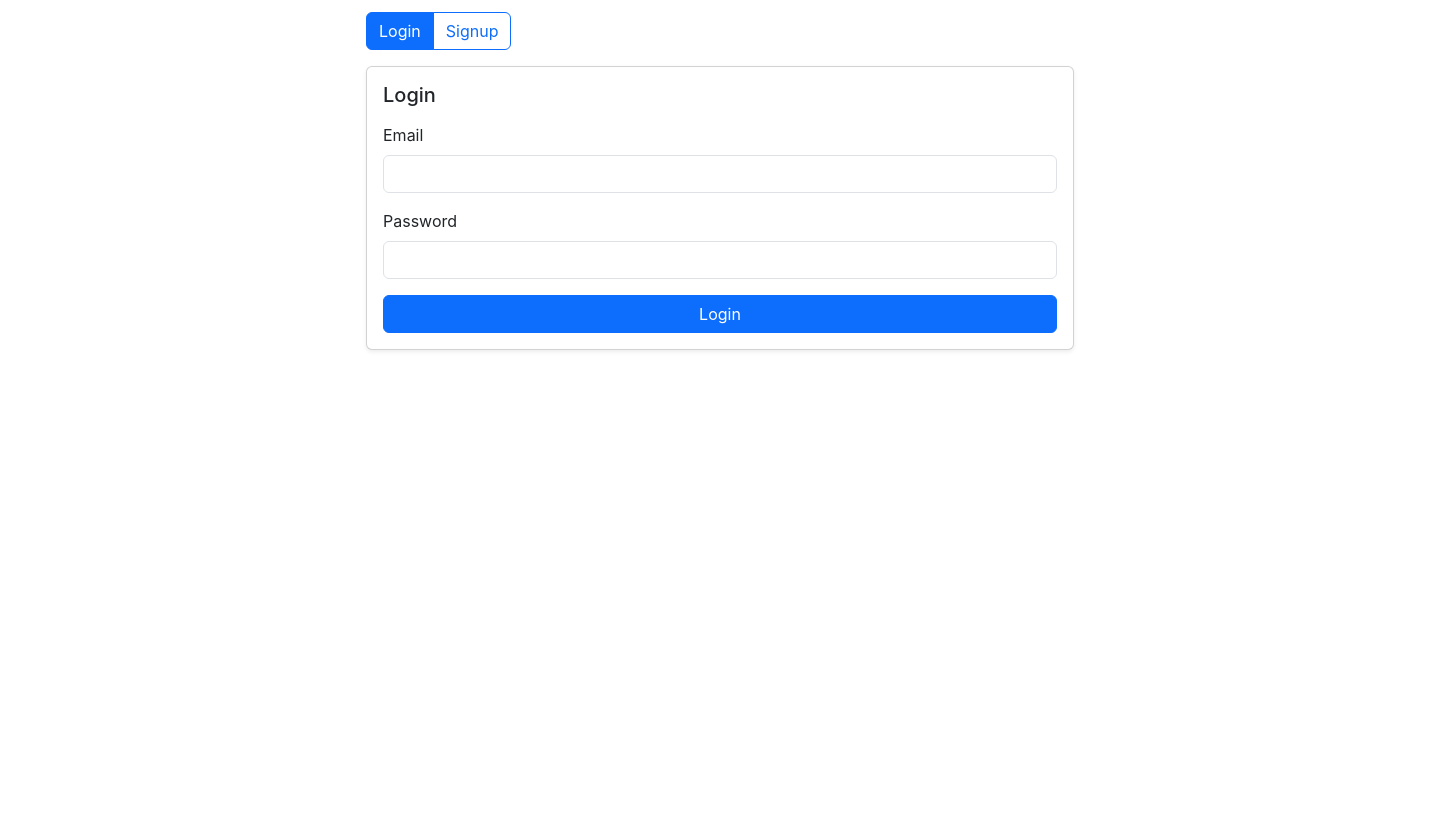
Test: AuthPage › signs up successfully and switches back to login mode
The image size is (1440, 822).
Click the button "Signup".
click(472, 31)  # box [433,12,512,50]
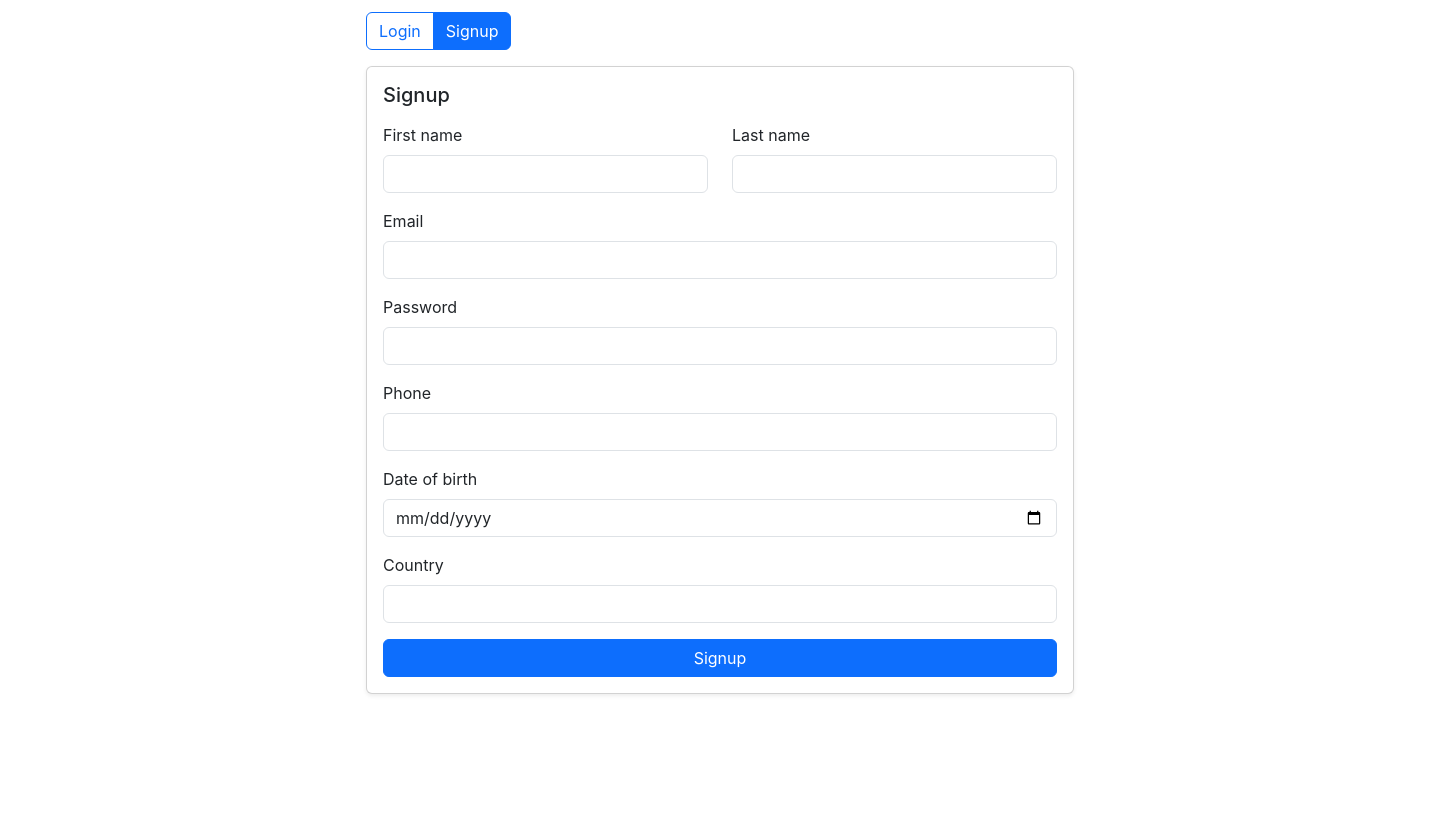
Expected: the field named "fname" below "First name" is shown
Type "Jane" into the field named "fname" below "First name".
click(546, 174); type("Jane")  # box [383,155,708,193]
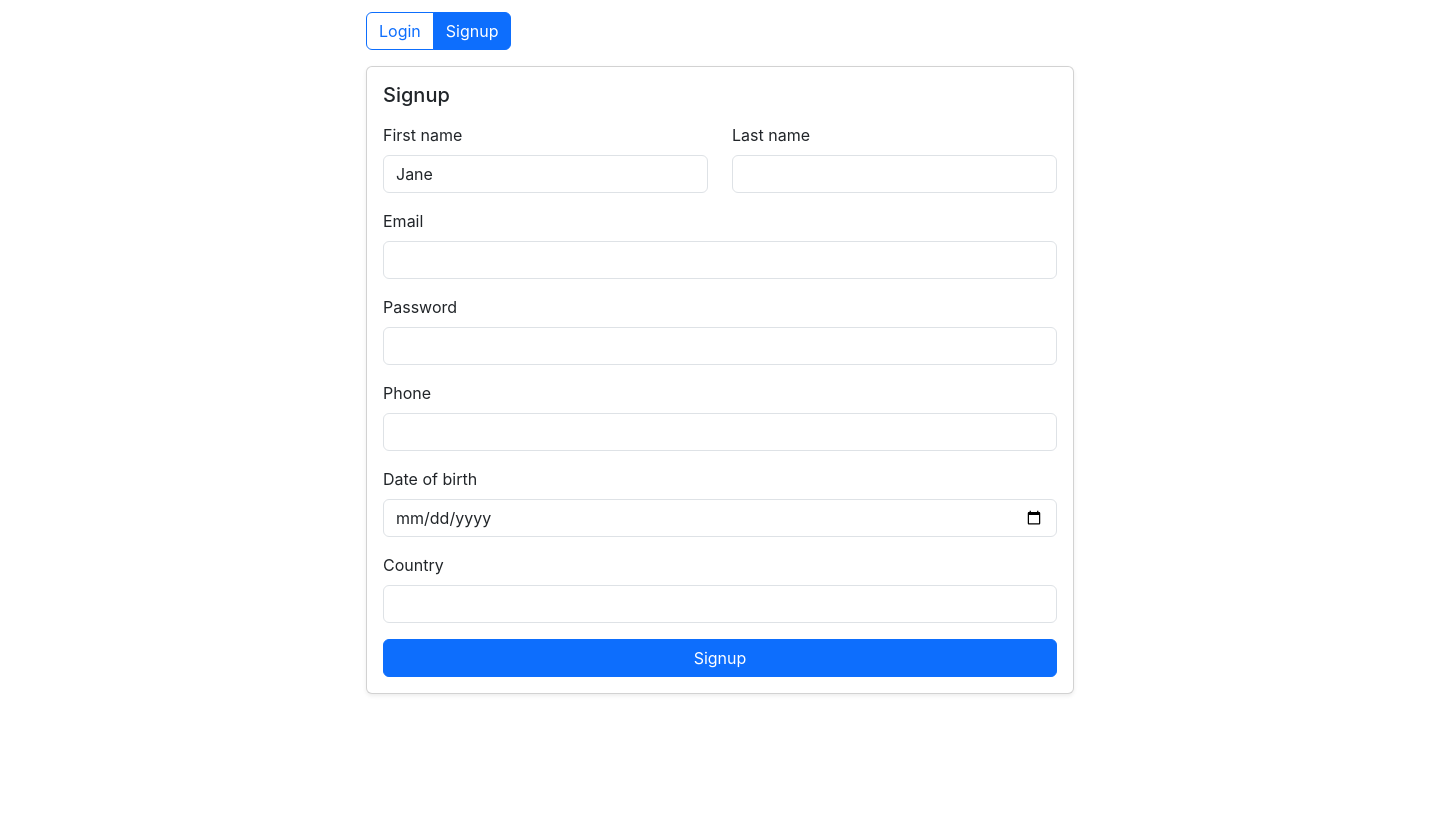
Expected: the field named "lname" below "Last name" is shown
Type "Doe" into the field named "lname" below "Last name".
click(894, 174); type("Doe")  # box [732,155,1057,193]
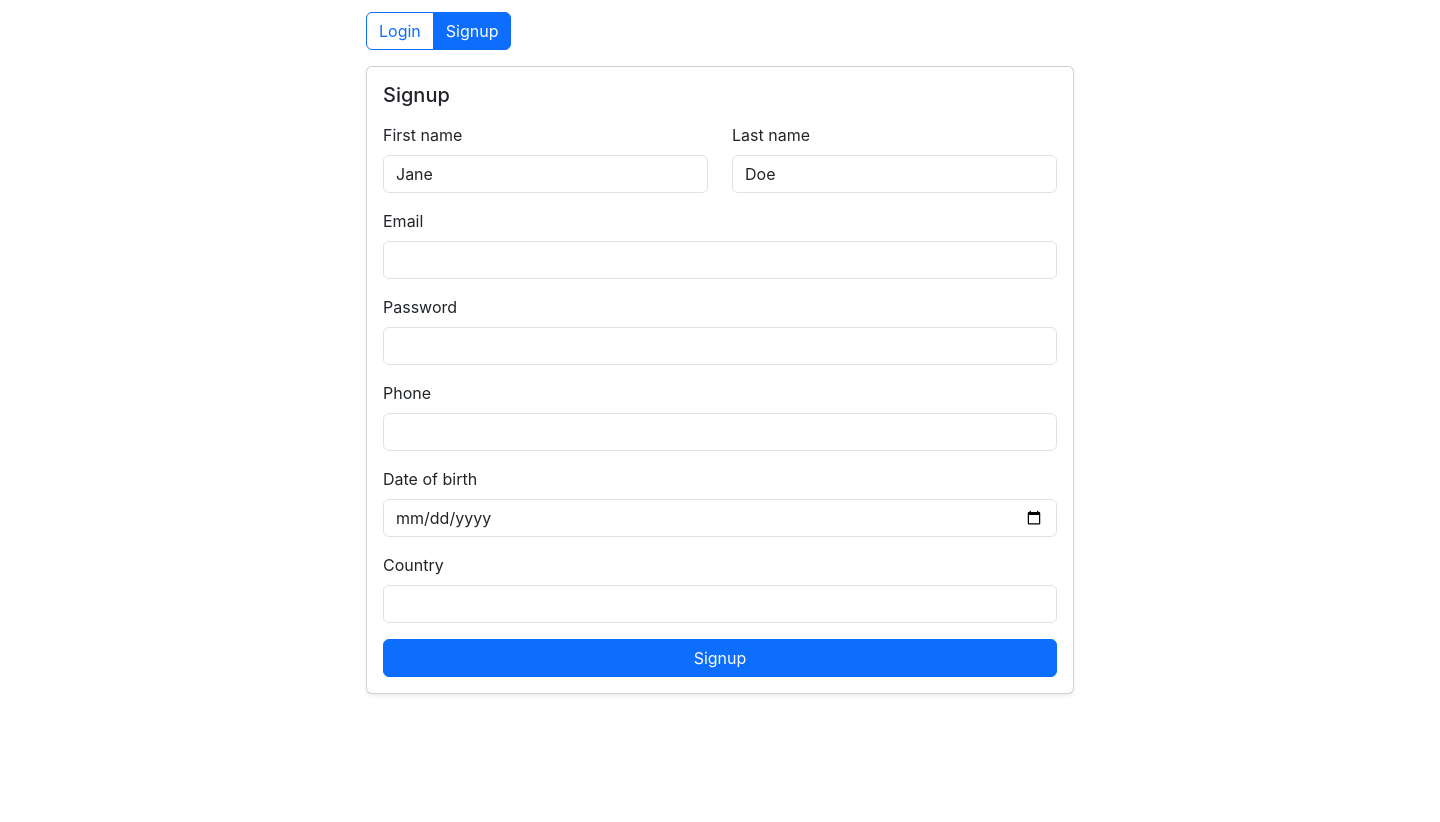
Type "jane@example.com" into the field named "email" below "Email".
click(720, 260); type("jane@example.com")  # box [383,241,1057,279]
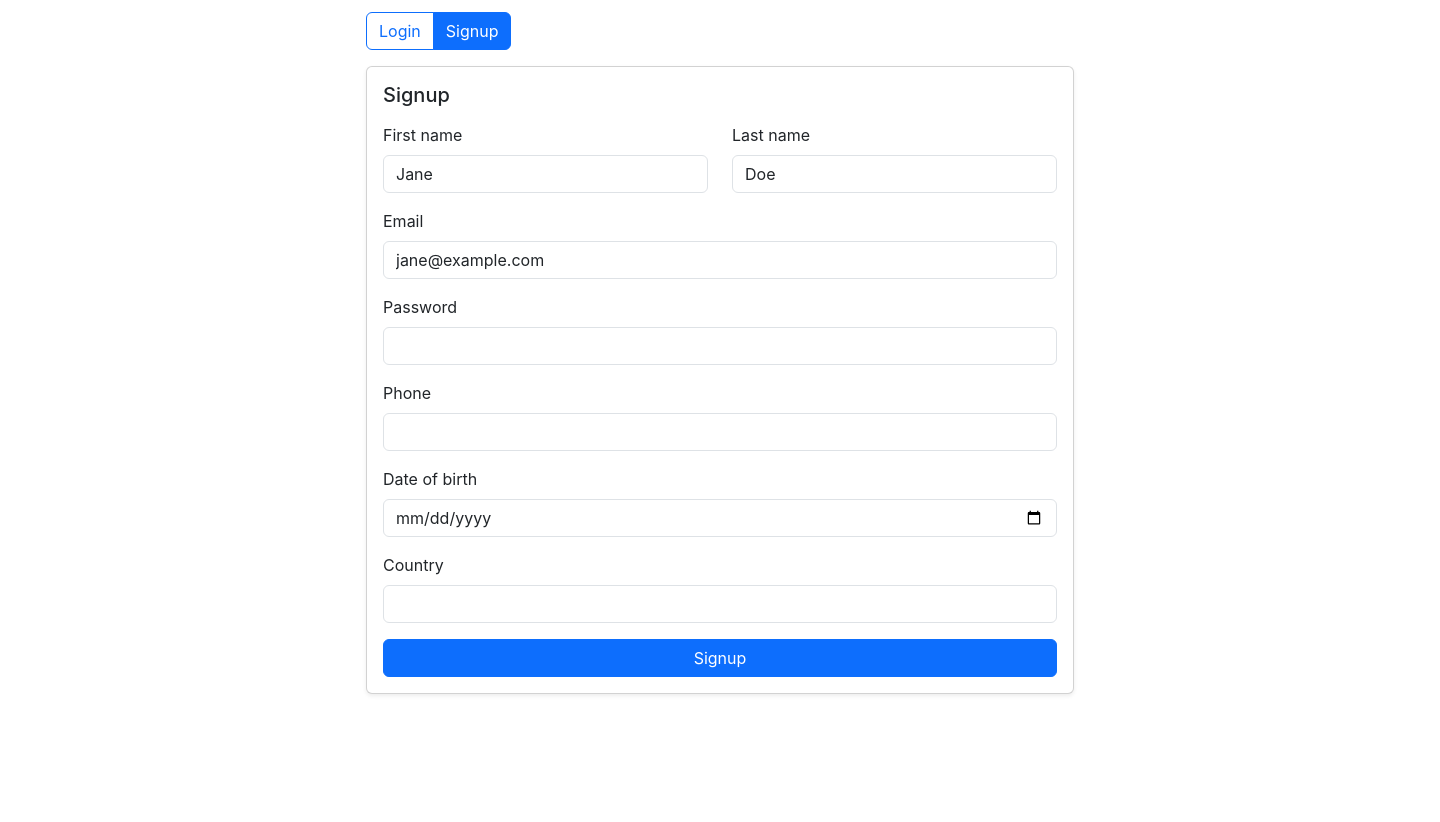
Type "secret" into the password field named "password".
click(720, 346); type("secret")  # box [383,327,1057,365]
Type "1234567890" into the field below "Phone".
click(720, 432); type("1234567890")  # box [383,413,1057,451]
Type "USA" into the field below "Country".
click(720, 604); type("USA")  # box [383,585,1057,623]
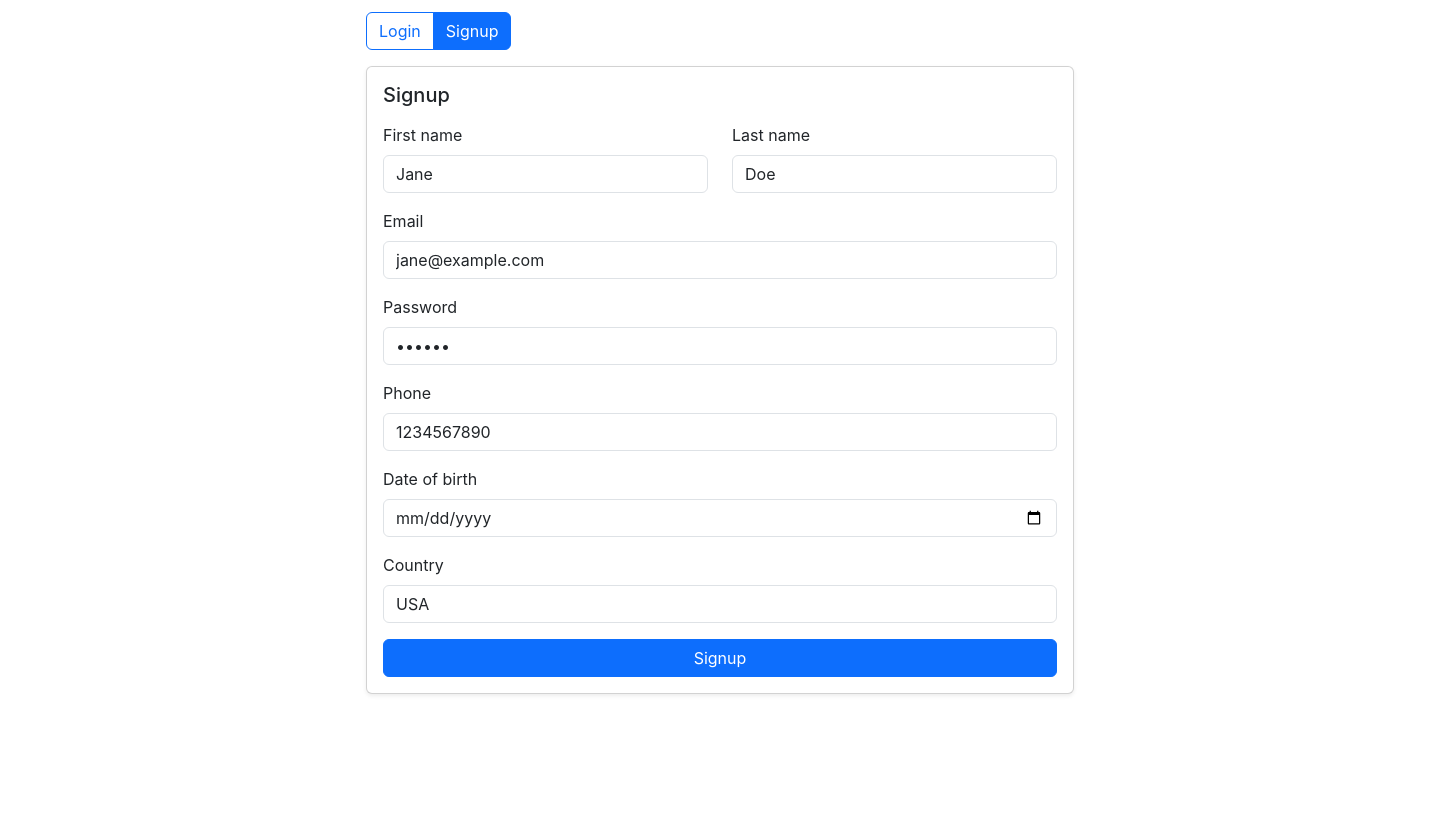
Submit the form, box [366,66,1074,694]
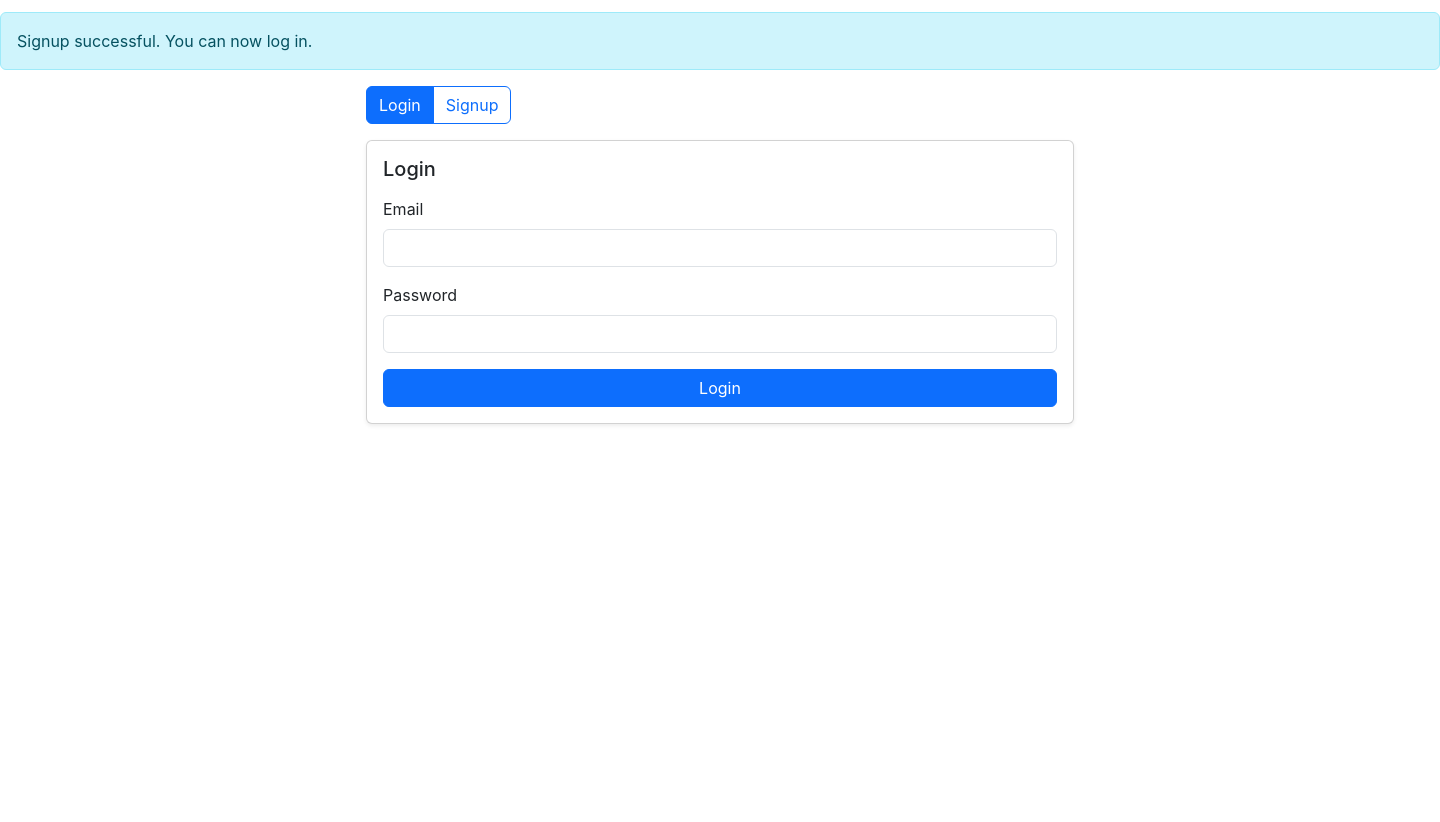
Expected: the message reads "Signup successful. You can now log in.", [17,31,312,51]
